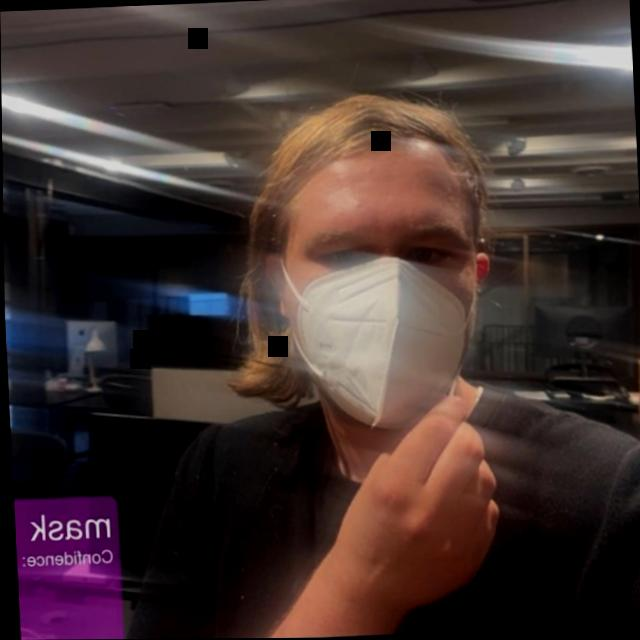Mask: (226, 67, 515, 429)
